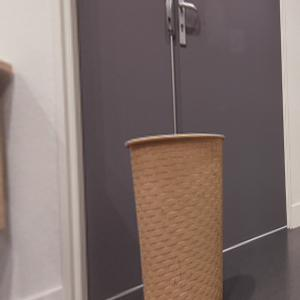medium: (125, 135, 226, 300)
